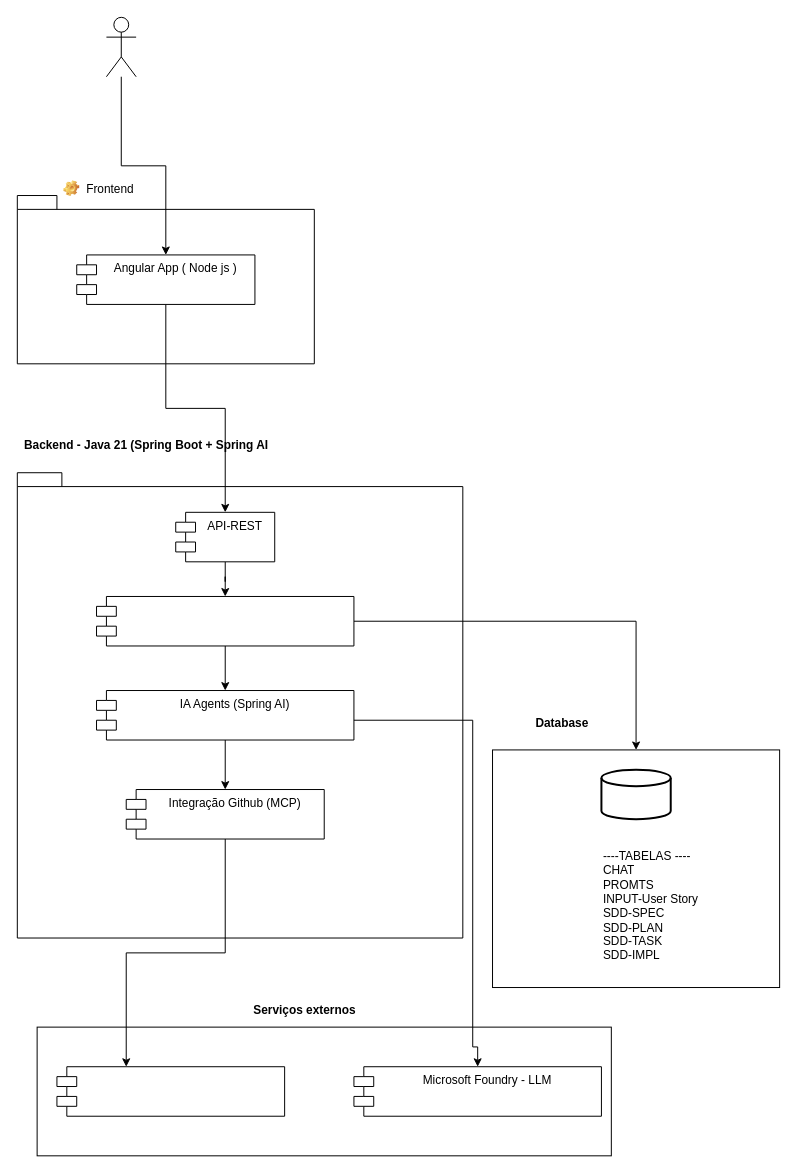
Some shapes in this 797 by 1173 pixel diagram are drawn without their labels. Each missing label, with the centre of its shape:
Github API: the point at 170,1091
Oracle: the point at 635,794
Serviços de Negócio (Service Layer): the point at 225,620
Usuario CAIXA: the point at 120,46
